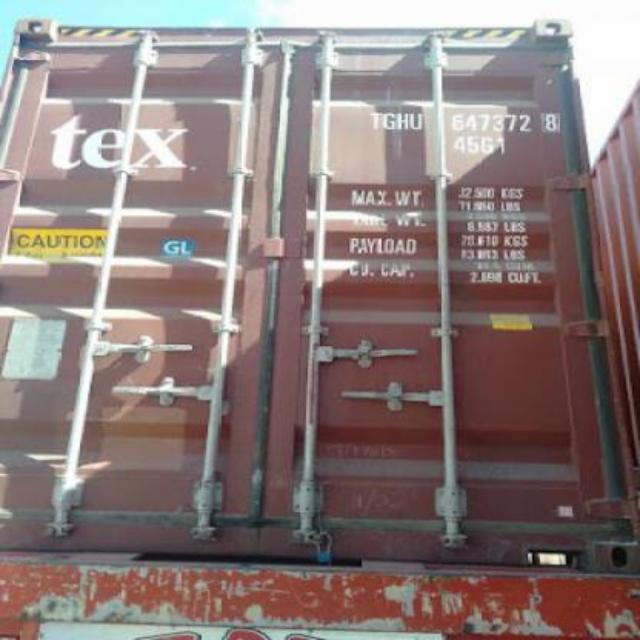2: (518, 112, 532, 132)
3: (492, 114, 506, 134)
4: (466, 112, 478, 132)
6: (452, 112, 464, 132)
7: (478, 112, 492, 132), (506, 114, 520, 132)
8: (542, 114, 560, 132)
G: (382, 113, 396, 131)
H: (398, 111, 410, 132)
T: (368, 111, 382, 132)
U: (408, 113, 426, 131)
